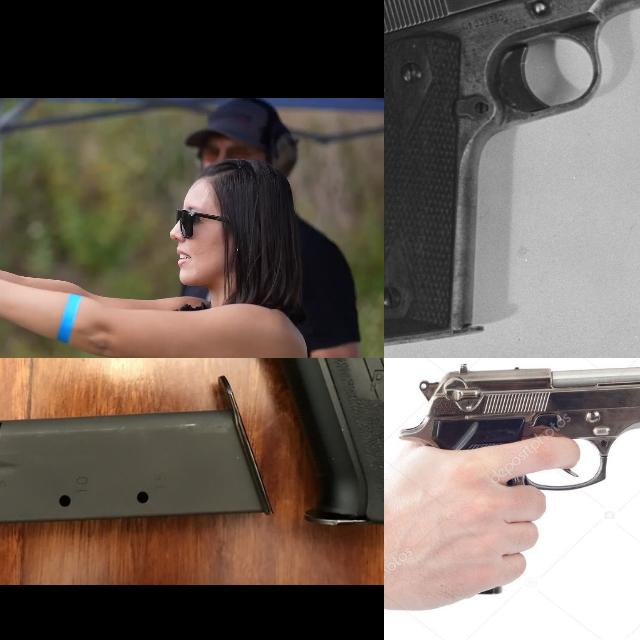handgun: (384, 0, 640, 358), (0, 358, 384, 570), (392, 358, 640, 492), (0, 210, 72, 260)
